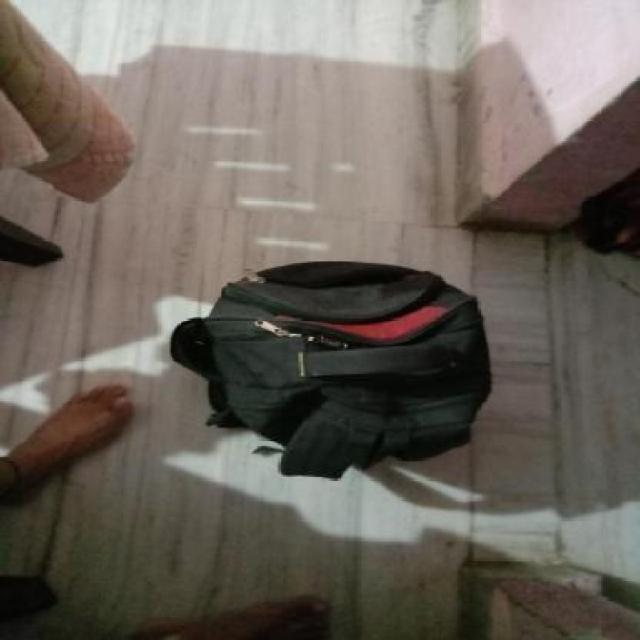backpack: (168, 255, 500, 483)
